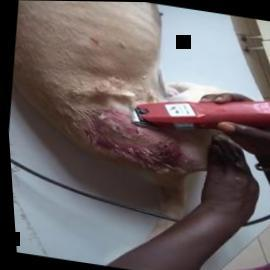skin_lesions: (88, 107, 181, 171)
